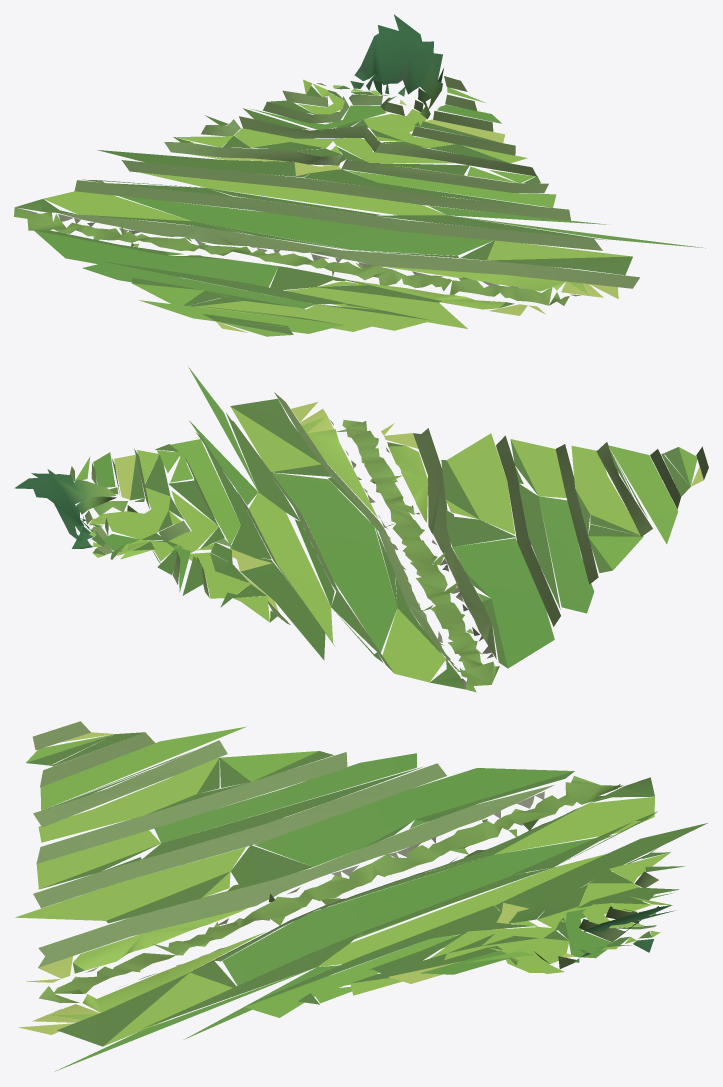
The model's file is payo_land_xm4_y7_lod2.glb.
3 renders of one model, top to bottom at view 1: azimuth 30°, elevation 25°; view 2: azimuth 150°, elevation 25°; view 3: azimuth 270°, elevation 25°, orthographic. The views are drawn at different scales.
Parts seen in each view (by area): view 1: payo_land_xm4_y7; view 2: payo_land_xm4_y7; view 3: payo_land_xm4_y7.
Boxes of the visible parts, x1,y1,x2,y2 form: payo_land_xm4_y7: [14, 14, 705, 336]; payo_land_xm4_y7: [14, 366, 708, 692]; payo_land_xm4_y7: [15, 721, 707, 1071].
Size of the model in its own units: 319 by 64.03 by 289.
